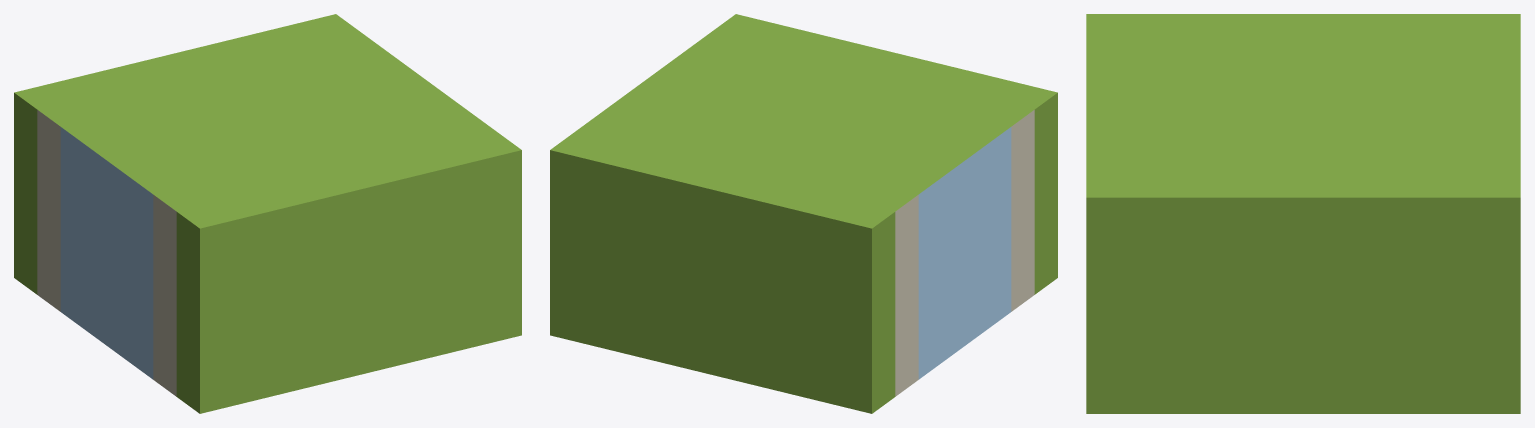
Rendered from tile232.obj.
3 views of the same model, side by side, from view 1: azimuth 30°, elevation 25°; view 2: azimuth 150°, elevation 25°; view 3: azimuth 270°, elevation 25° (orthographic). The views are drawn at different scales.
Parts seen in each view (by area): view 1: tile232; view 2: tile232; view 3: tile232.
Boxes of the visible parts, left/top/right/bottom form: tile232: left=14, top=14, right=521, bottom=413; tile232: left=550, top=14, right=1057, bottom=413; tile232: left=1086, top=14, right=1520, bottom=413.
Bounding box in the file's own units: 1 × 0.55 × 1.
